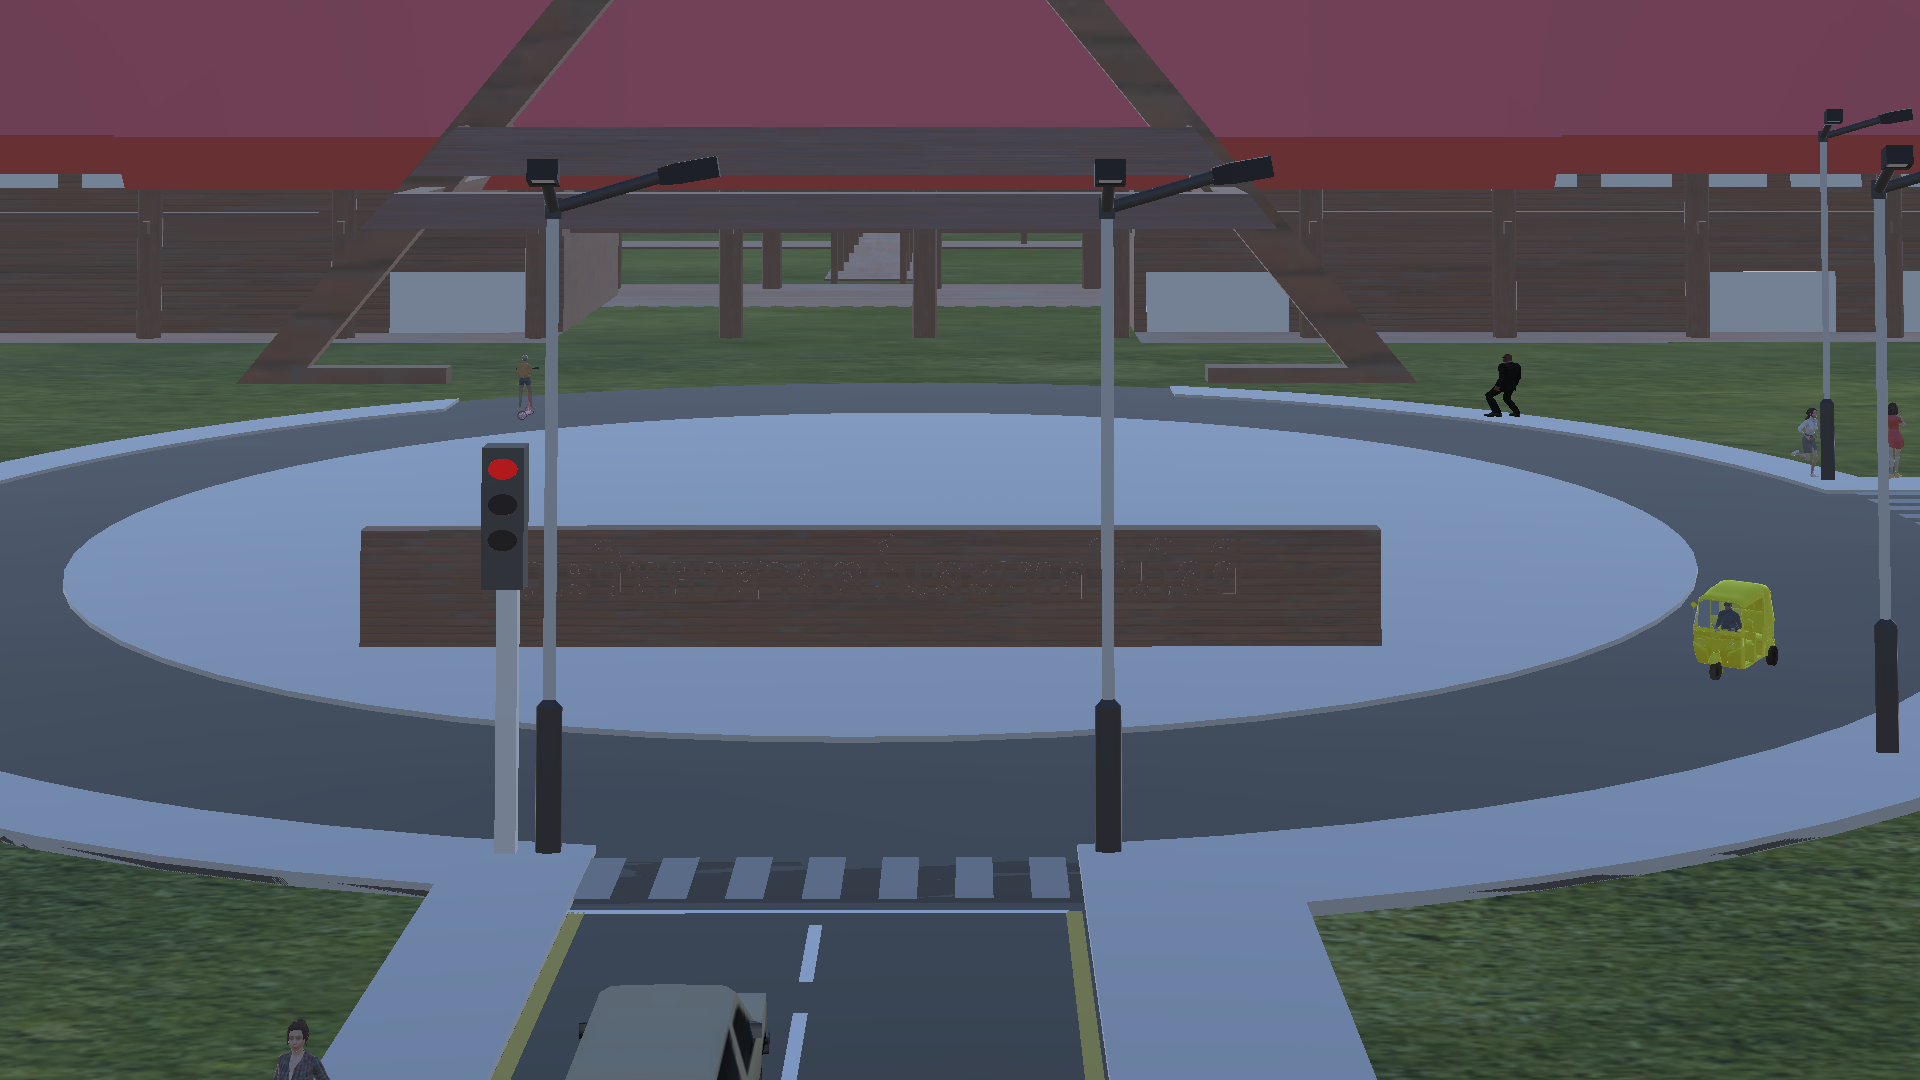pedestrian: (1479, 350, 1530, 426), (1789, 399, 1825, 481), (1887, 403, 1915, 479)
